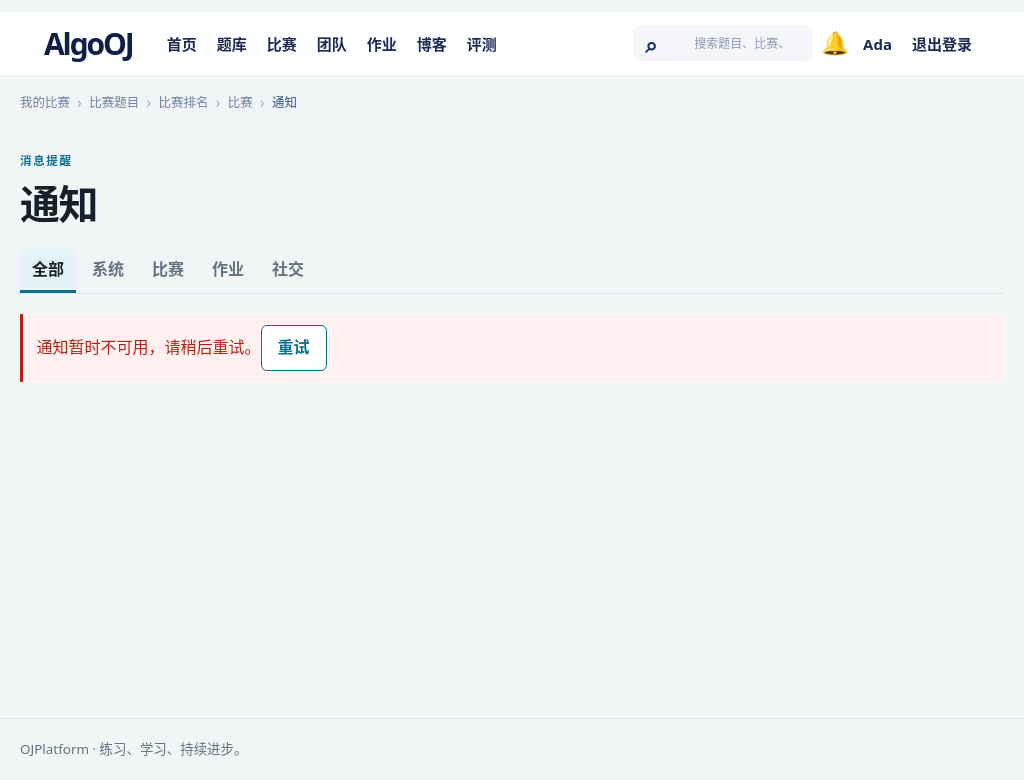
Test: Product Web Backend runtime regressions › retries a failed notification list request instead of presenting no notifications
Expected: the message shows "通知暂时不可用，请稍后重试。", x1=37 y1=336 x2=261 y2=358
Click the button "重试".
click(294, 348)  # box x1=261 y1=325 x2=327 y2=371
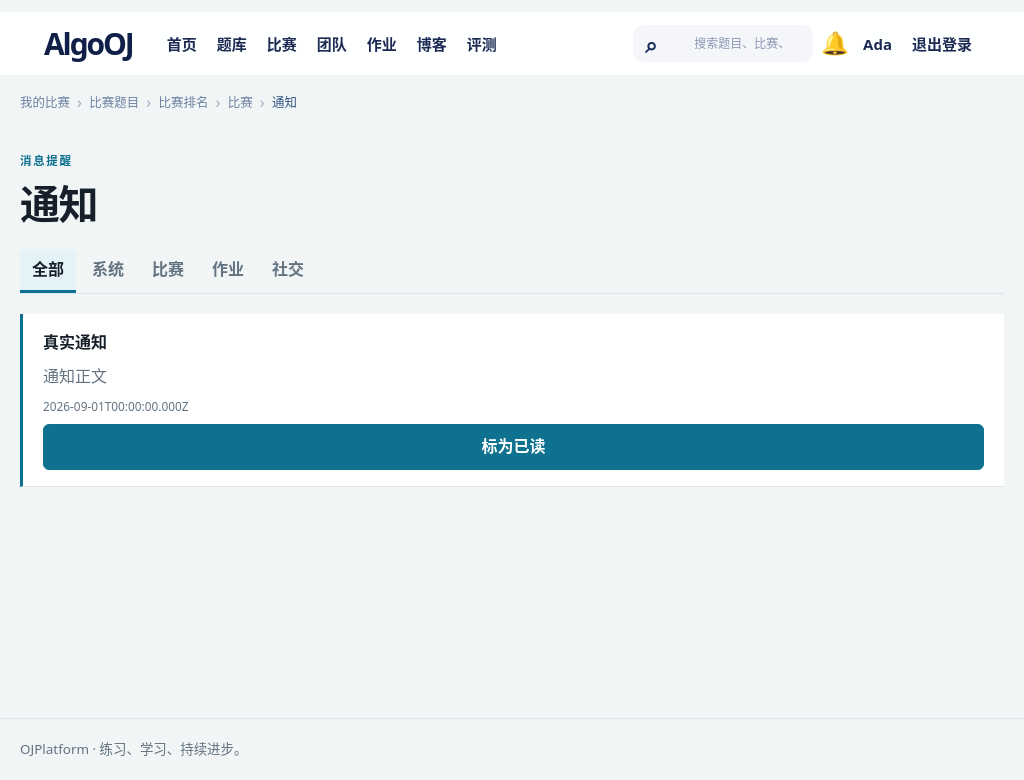
Expected: the text "真实通知" is shown, x1=43 y1=331 x2=107 y2=353
